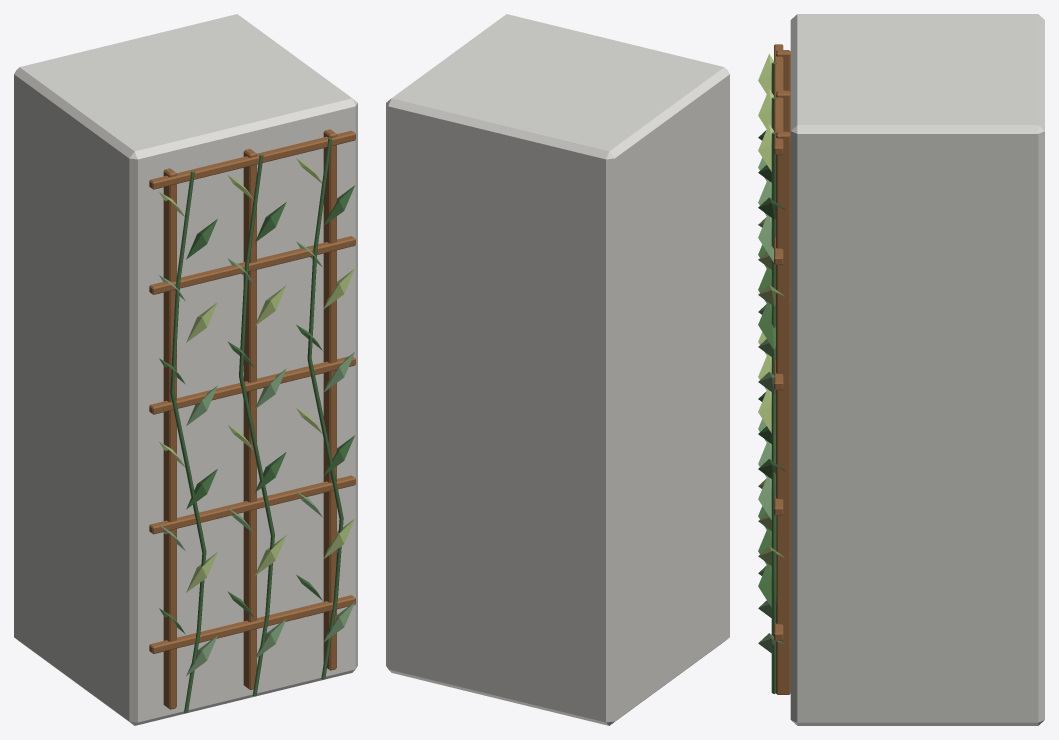
File: kit_wall_greenwash.glb
3 renders of one model, left to right at view 1: azimuth 30°, elevation 25°; view 2: azimuth 150°, elevation 25°; view 3: azimuth 270°, elevation 25°, orthographic. The views are drawn at different scales.
Parts seen in each view (by area): view 1: kit_wall_greenwash_mesh; view 2: kit_wall_greenwash_mesh; view 3: kit_wall_greenwash_mesh.
Part boxes in pixels (left/top/right/bottom): kit_wall_greenwash_mesh: left=14, top=14, right=357, bottom=725; kit_wall_greenwash_mesh: left=386, top=14, right=729, bottom=725; kit_wall_greenwash_mesh: left=758, top=14, right=1044, bottom=725.
Bounding box in the file's own units: 1 × 2.4 × 1.04.
